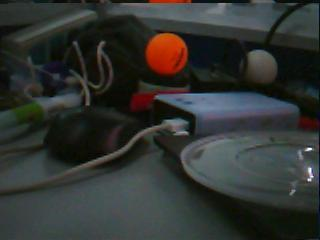oball: (146, 33, 187, 74)
